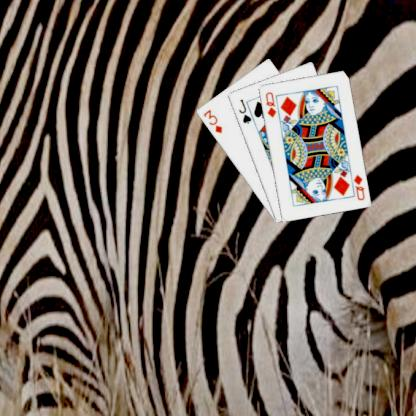3D: (200, 107, 223, 134)
JS: (236, 96, 252, 125)
QD: (350, 172, 366, 202), (263, 89, 277, 119)
